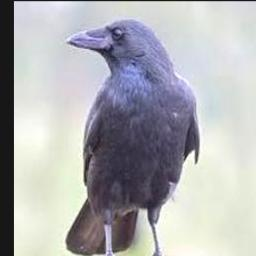Crow: (64, 19, 199, 256)
